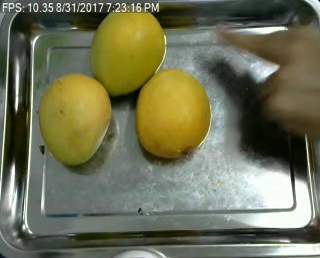Mango: (36, 74, 113, 165), (134, 68, 213, 155), (91, 3, 166, 93)
